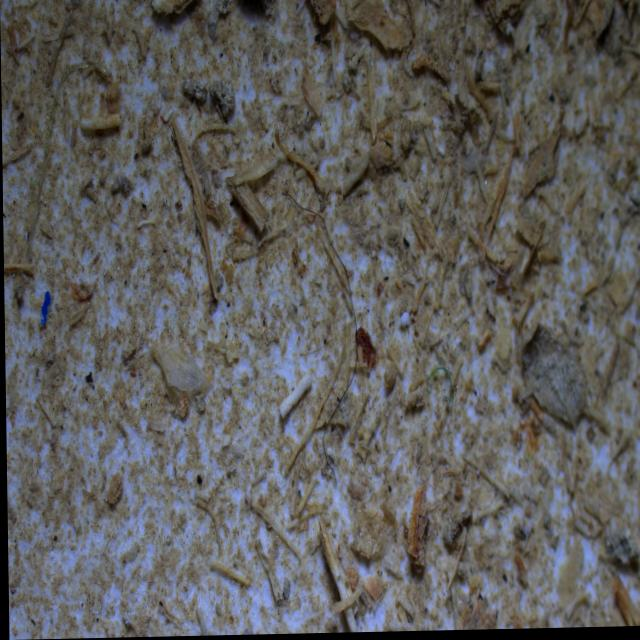microplastic: (282, 187, 368, 487), (418, 363, 458, 412), (33, 290, 56, 330)
